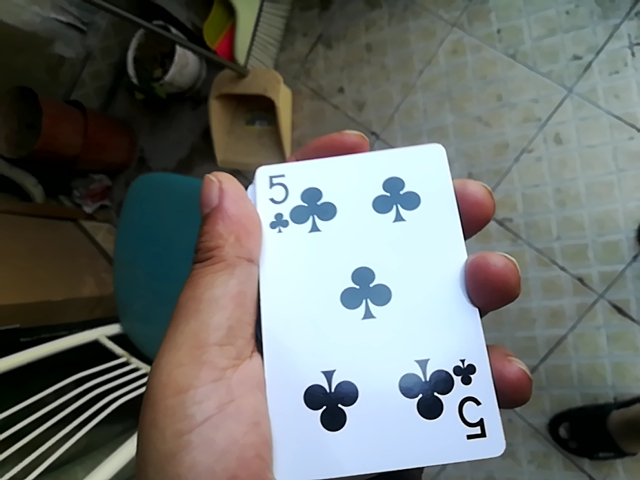mh 5: (251, 142, 502, 480)
